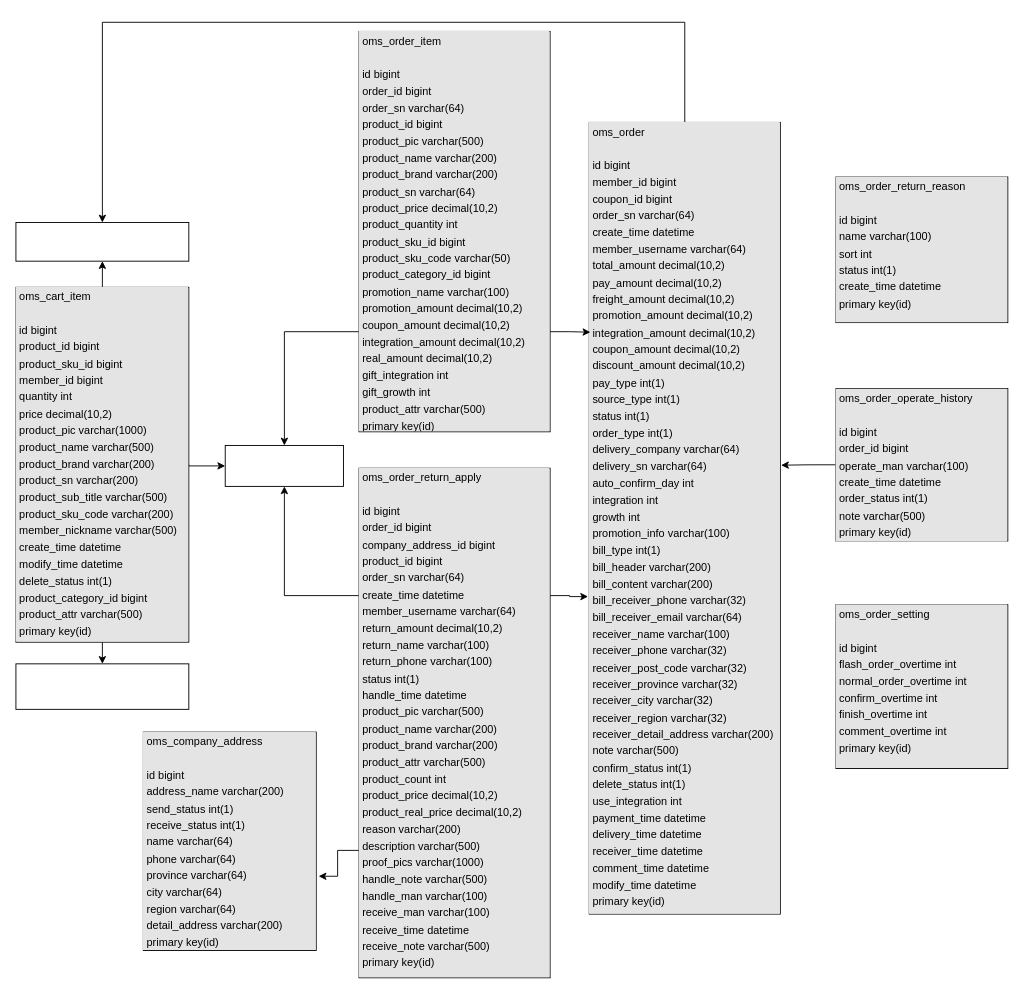
The diagram is 1024 pixels wide and 994 high, and some of its shapes have lost their labels. Here are the shapes that lost their labels. From the top down, the centre of each, then its label:
At point 102,241: "ums_member".
At point 284,465: "pms_product".
At point 102,686: "pms_sku_stock".
